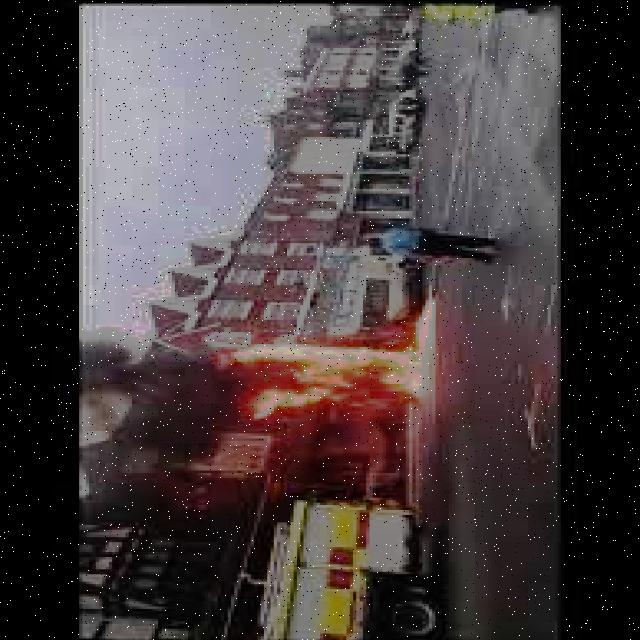api: (219, 288, 443, 434)
